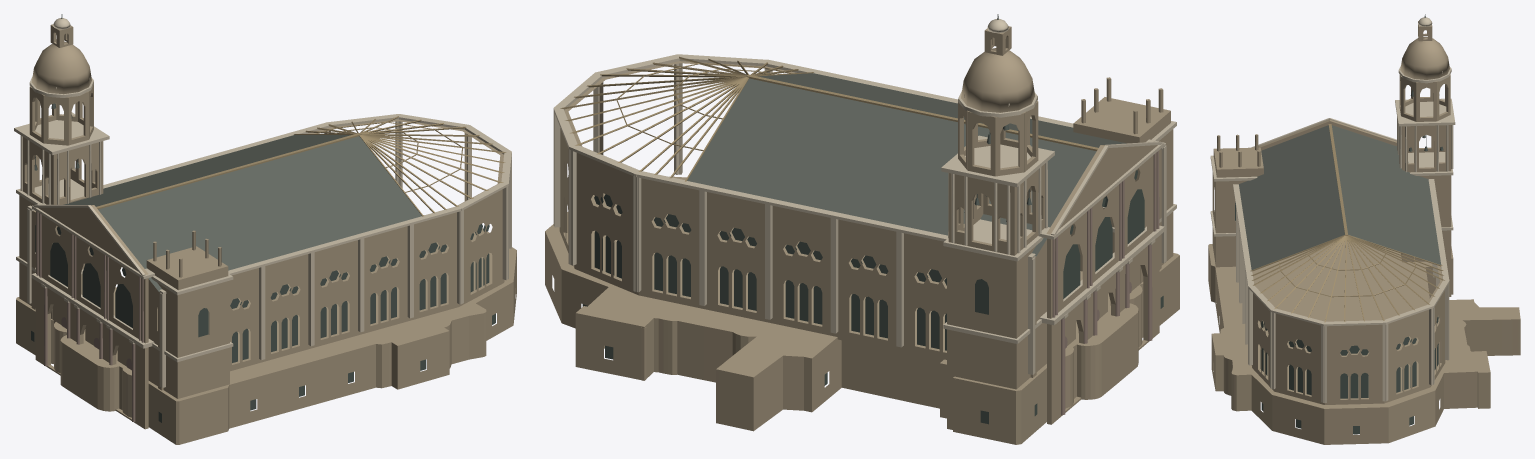
Rendered from malaga-cathedral-far.glb.
3 views of the same model, side by side, from view 1: azimuth 30°, elevation 25°; view 2: azimuth 150°, elevation 25°; view 3: azimuth 270°, elevation 25° (orthographic). The views are drawn at different scales.
Visible parts, largest first — view 1: malaga-cathedral-0-stone, malaga-cathedral-0-roof, malaga-cathedral-0-trim, malaga-cathedral-0-glass, malaga-cathedral-0-timber, malaga-cathedral-0-marble, malaga-cathedral-0-purlin; view 2: malaga-cathedral-0-stone, malaga-cathedral-0-roof, malaga-cathedral-0-trim, malaga-cathedral-0-glass, malaga-cathedral-0-timber, malaga-cathedral-0-marble, malaga-cathedral-0-purlin; view 3: malaga-cathedral-0-stone, malaga-cathedral-0-roof, malaga-cathedral-0-trim, malaga-cathedral-0-timber, malaga-cathedral-0-glass, malaga-cathedral-0-purlin.
Boxes of the visible parts, bbox=[...] form: malaga-cathedral-0-stone: bbox=[16, 24, 516, 444]; malaga-cathedral-0-roof: bbox=[29, 135, 421, 291]; malaga-cathedral-0-trim: bbox=[14, 18, 511, 387]; malaga-cathedral-0-glass: bbox=[31, 224, 495, 422]; malaga-cathedral-0-timber: bbox=[96, 116, 506, 216]; malaga-cathedral-0-marble: bbox=[36, 212, 143, 421]; malaga-cathedral-0-purlin: bbox=[315, 121, 462, 192]; malaga-cathedral-0-stone: bbox=[545, 26, 1179, 444]; malaga-cathedral-0-roof: bbox=[687, 73, 1164, 256]; malaga-cathedral-0-trim: bbox=[553, 19, 1176, 374]; malaga-cathedral-0-glass: bbox=[582, 170, 1163, 424]; malaga-cathedral-0-timber: bbox=[560, 56, 1098, 181]; malaga-cathedral-0-marble: bbox=[1052, 150, 1159, 415]; malaga-cathedral-0-purlin: bbox=[616, 63, 792, 150]; malaga-cathedral-0-stone: bbox=[1208, 21, 1520, 444]; malaga-cathedral-0-roof: bbox=[1239, 125, 1441, 269]; malaga-cathedral-0-trim: bbox=[1210, 17, 1455, 402]; malaga-cathedral-0-timber: bbox=[1250, 124, 1444, 322]; malaga-cathedral-0-glass: bbox=[1235, 202, 1438, 434]; malaga-cathedral-0-purlin: bbox=[1278, 247, 1415, 297].
Size of the model in its own units: 120 by 87 by 90.29.
